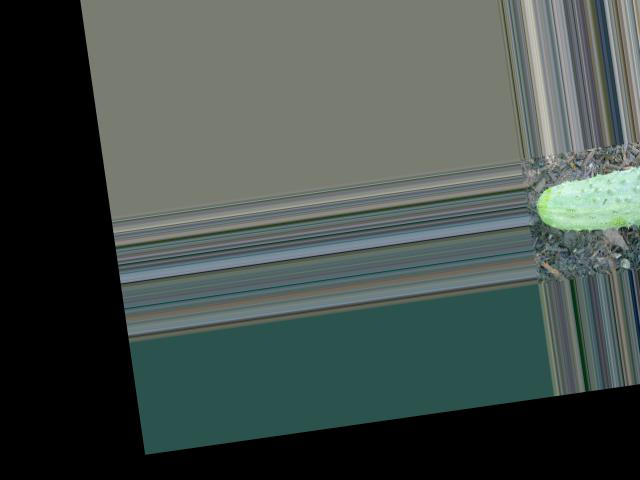cucumber: (532, 158, 640, 239)
